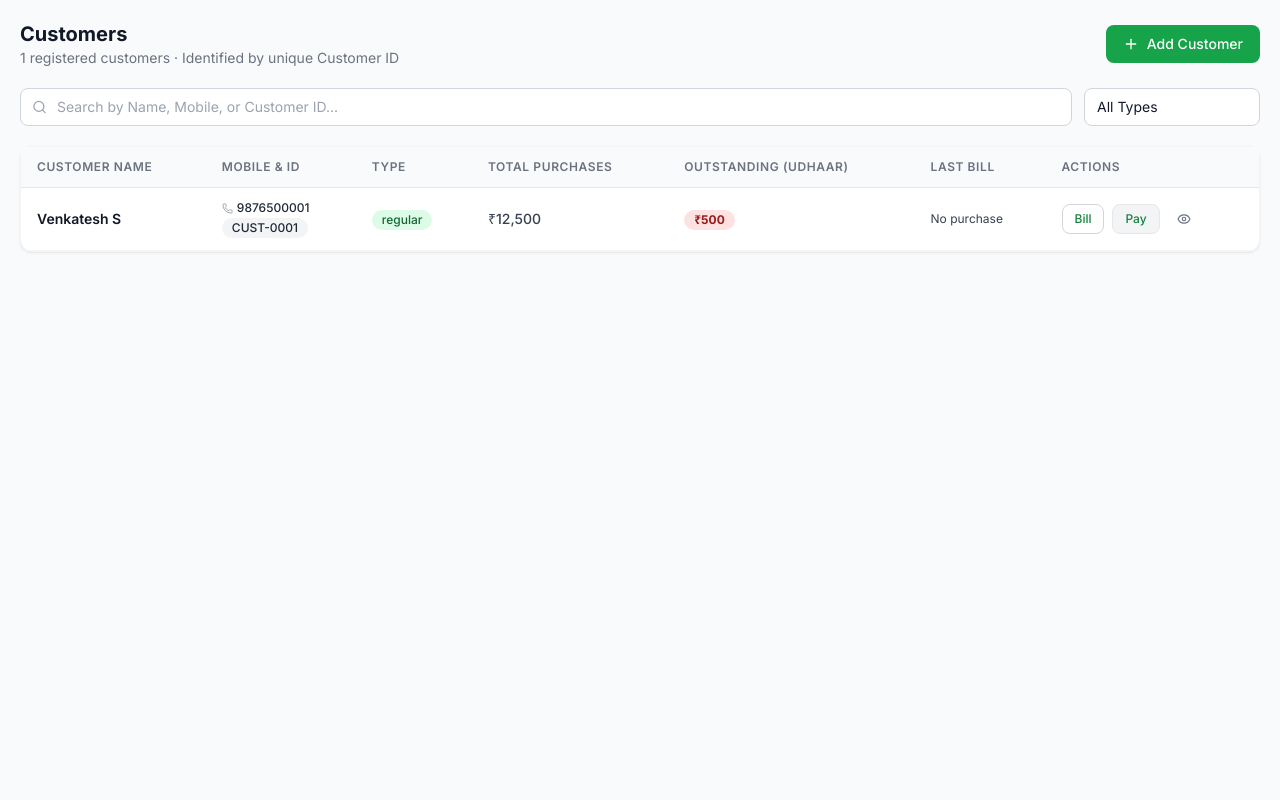
Test case: CustomersPage Component & Buttons › renders customer list and opens Add Customer modal without error
This screenshot has width=1280, height=800.
Expected: the heading "Customers" is shown, [20,22,127,46]
Expected: the link "Venkatesh S" is shown, [37,210,121,227]
Step 1. Click the button "Add Customer" → click(1183, 44), box [1106,25,1260,63]
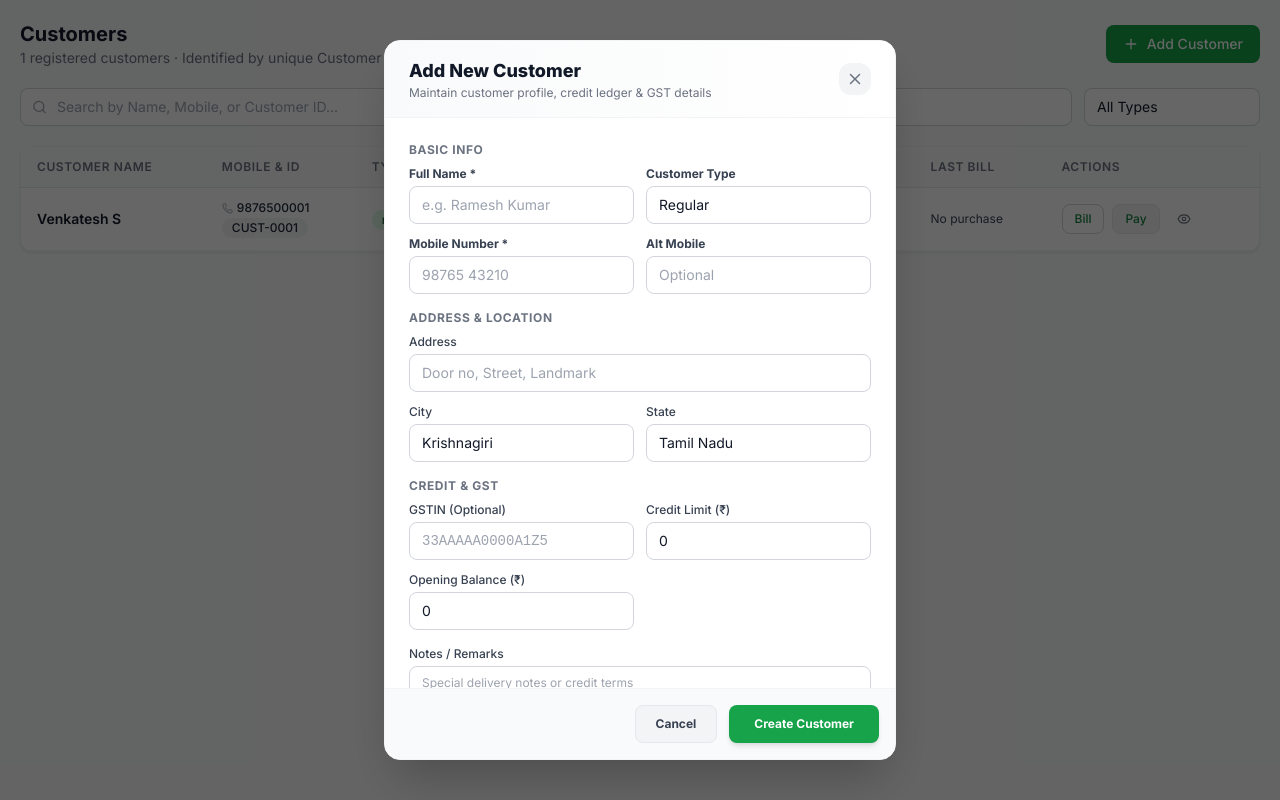
Expected: the heading "Add New Customer" is shown, [409,60,581,81]
Expected: the field with placeholder "e.g. Ramesh Kumar" is shown, [409,186,634,224]
